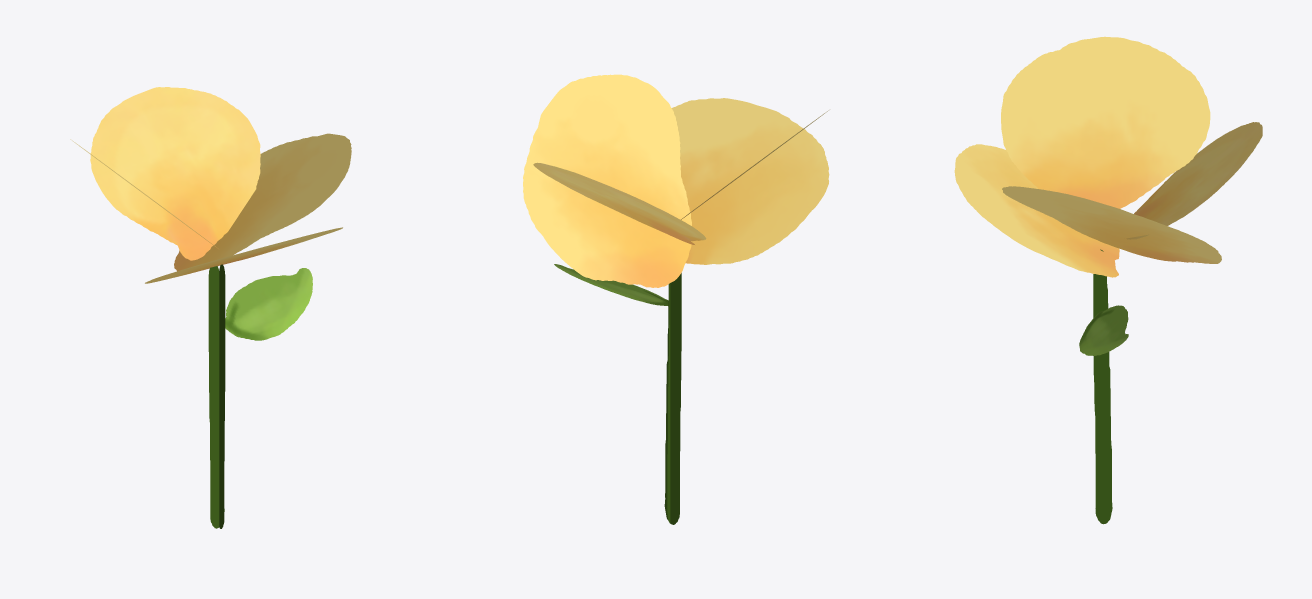
Rendered from Yellow_Flower.fbx.
3 views of the same model, side by side, from view 1: azimuth 30°, elevation 25°; view 2: azimuth 150°, elevation 25°; view 3: azimuth 270°, elevation 25° (orthographic). The views are drawn at different scales.
Visible parts, largest first — view 1: flower_yellow, flower_yellow3, small_leaf, flower_base, flower_base4, flower_yellow1; view 2: flower_yellow3, flower_yellow1, flower_base, flower_yellow, small_leaf, flower_base4; view 3: flower_yellow2, flower_yellow1, flower_yellow3, flower_yellow, flower_base4, small_leaf.
Part boxes in pixels (left/top/right/bottom): flower_yellow: left=90, top=87, right=260, bottom=260; flower_yellow3: left=174, top=133, right=351, bottom=271; small_leaf: left=225, top=268, right=312, bottom=340; flower_base: left=208, top=266, right=224, bottom=528; flower_base4: left=219, top=264, right=225, bottom=528; flower_yellow1: left=145, top=227, right=342, bottom=283; flower_yellow3: left=523, top=74, right=691, bottom=287; flower_yellow1: left=671, top=98, right=829, bottom=264; flower_base: left=664, top=273, right=681, bottom=524; flower_yellow: left=533, top=162, right=706, bottom=244; small_leaf: left=554, top=264, right=668, bottom=305; flower_base4: left=667, top=283, right=670, bottom=523; flower_yellow2: left=1001, top=36, right=1210, bottom=208; flower_yellow1: left=954, top=144, right=1119, bottom=277; flower_yellow3: left=1002, top=186, right=1221, bottom=263; flower_yellow: left=1126, top=122, right=1262, bottom=239; flower_base4: left=1093, top=249, right=1112, bottom=524; small_leaf: left=1079, top=305, right=1128, bottom=355.
Size of the model in its own units: 0.6409 by 0.9829 by 0.6958.
